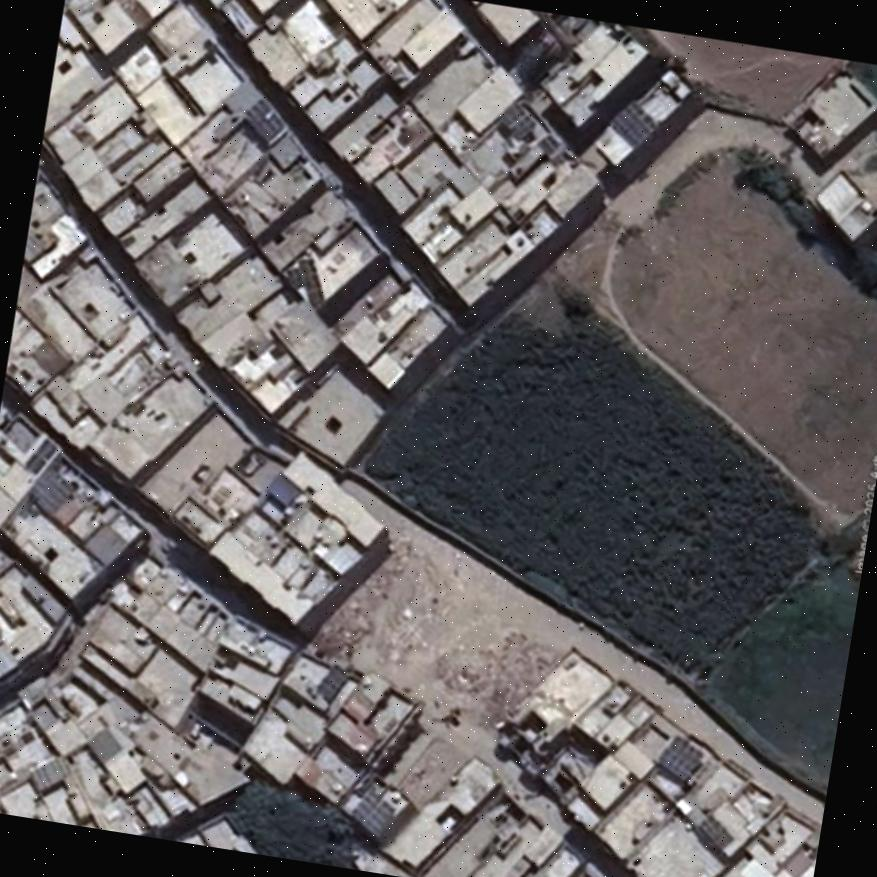Solarpanel: (351, 787, 393, 837), (608, 101, 654, 146), (654, 737, 702, 779), (32, 466, 69, 515), (245, 99, 280, 140), (318, 662, 346, 699)
